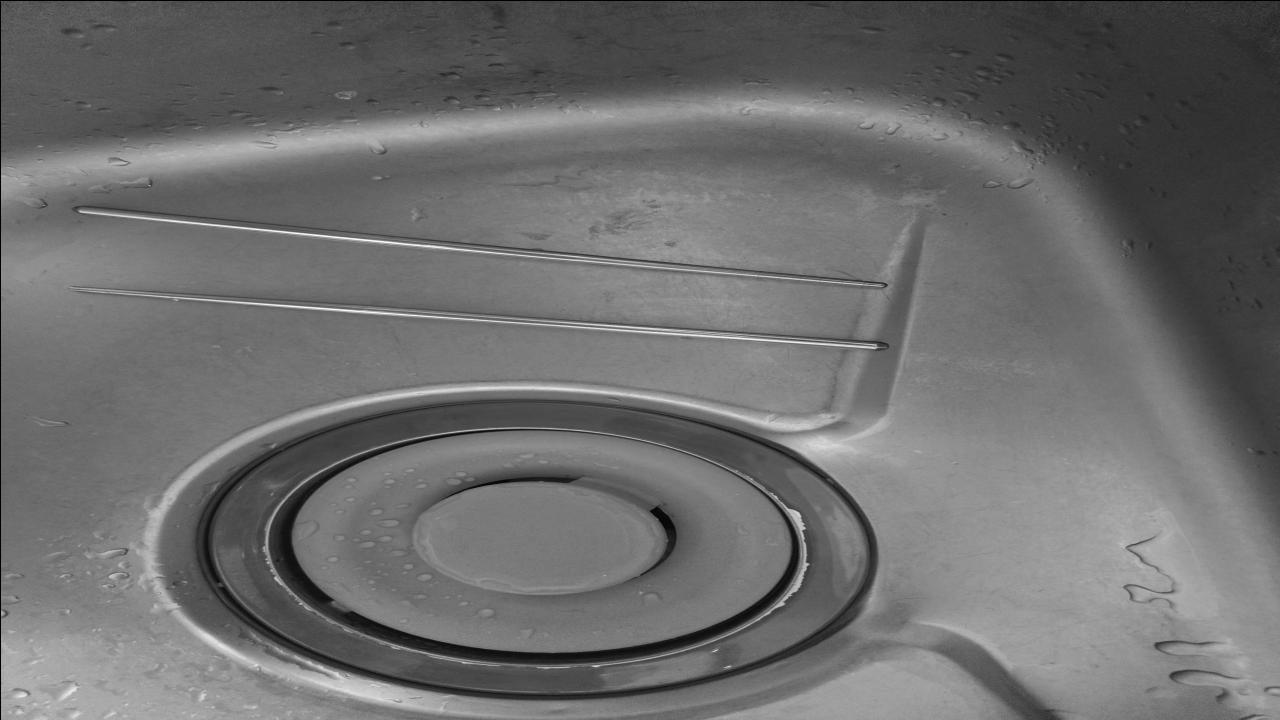chopstick: (72, 206, 886, 348)
